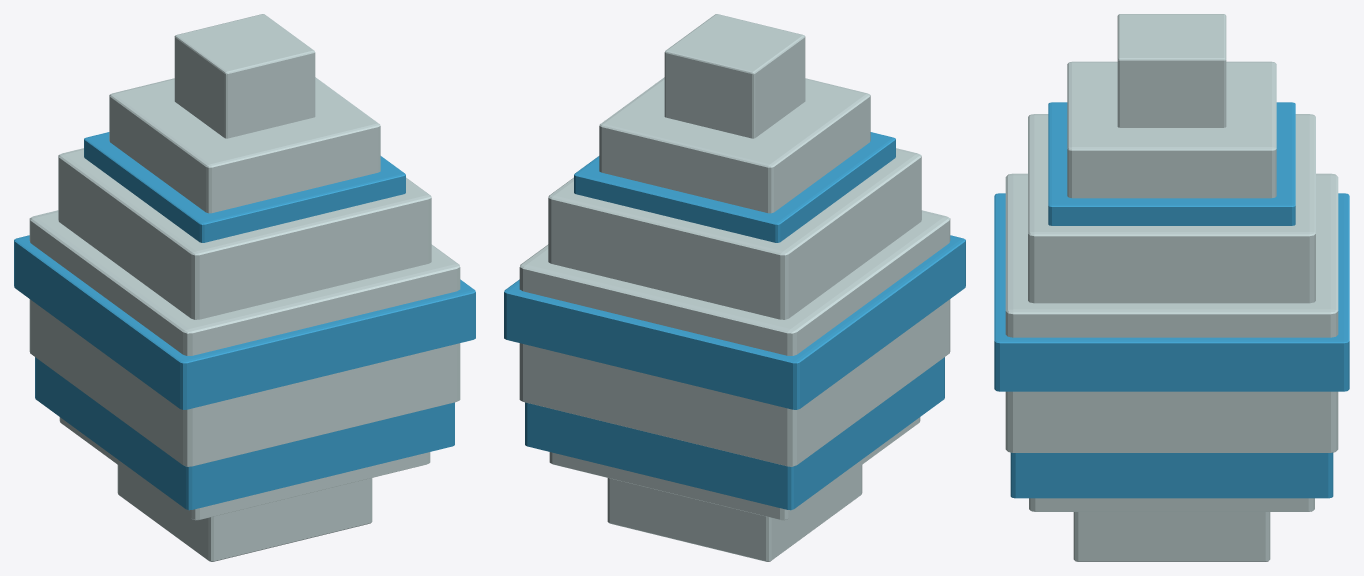
Rendered from egg-lake.glb.
3 views of the same model, side by side, from view 1: azimuth 30°, elevation 25°; view 2: azimuth 150°, elevation 25°; view 3: azimuth 270°, elevation 25° (orthographic). The views are drawn at different scales.
Parts seen in each view (by area): view 1: body; view 2: body; view 3: body.
Part boxes in pixels (x1,y1,x2,y2): body: (14, 14, 475, 561); body: (504, 14, 965, 561); body: (994, 14, 1349, 561).
Size of the model in its own units: 0.663 by 1 by 0.663.
